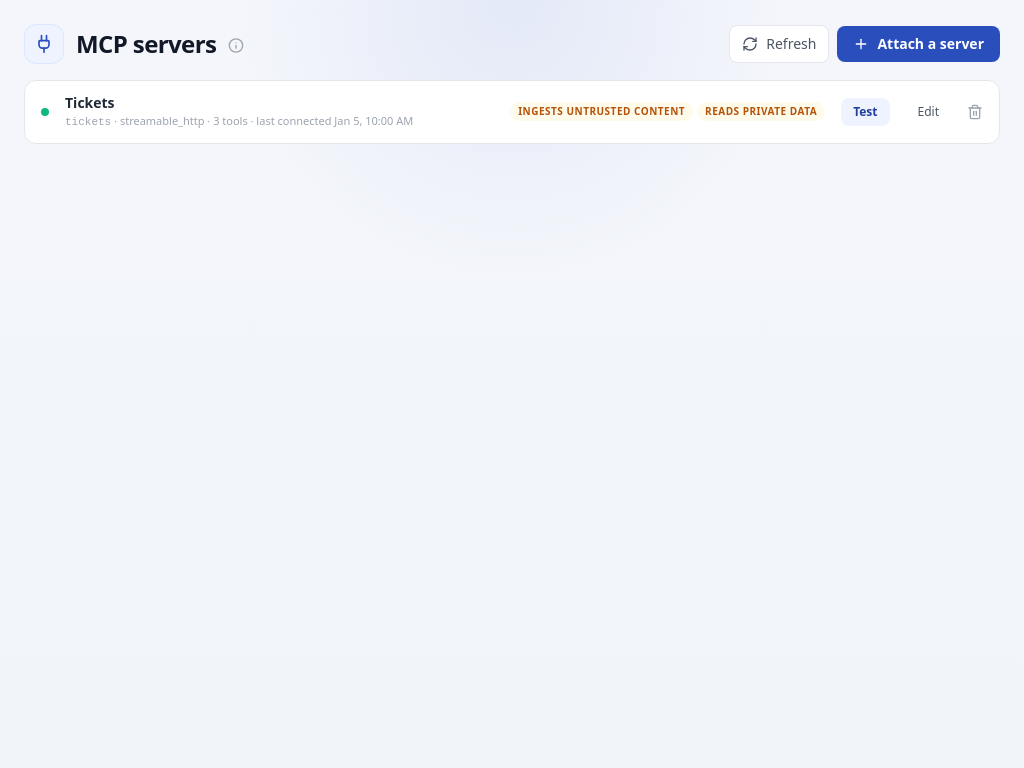
Scenario: Mcp — a configured server › lists what a test found, marking what the allowlist keeps
Expected: the text "Tickets" is shown, [65,93,115,112]
Click the button "Test" at point(865, 112), box [841,98,890,126]
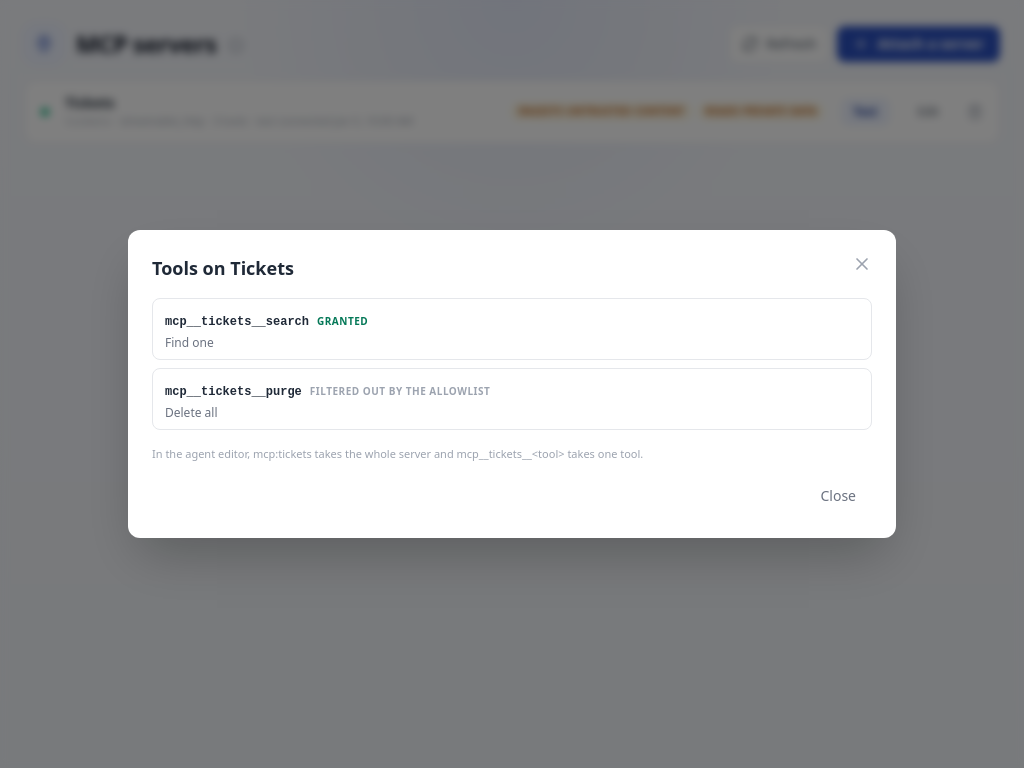
Result: the text "mcp__tickets__search" is shown at [165,315,309,329]
Result: the text "granted" is shown at [317,314,368,328]
Result: the text "filtered out by the allowlist" is shown at [310,384,490,398]
